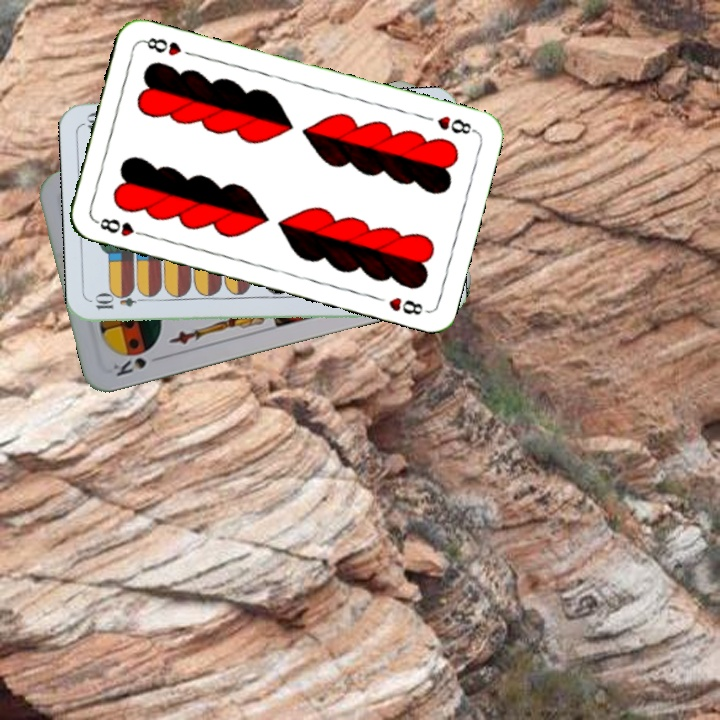E10: (91, 292, 150, 312)
H8: (91, 214, 150, 239), (433, 112, 478, 137)
SK: (109, 345, 154, 379)
